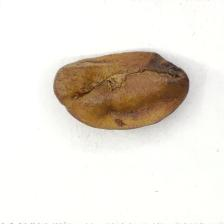NG: (62, 52, 185, 112)
